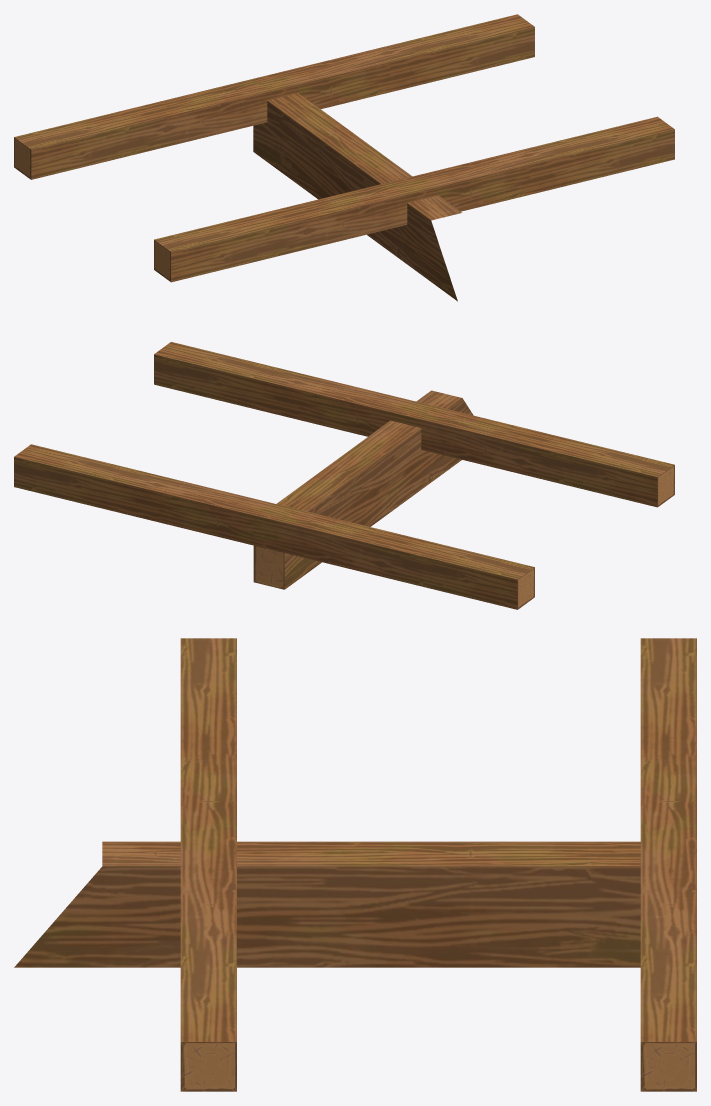
File: overhang-roofincline-unevenbricks.glb
3 renders of one model, top to bottom at view 1: azimuth 30°, elevation 25°; view 2: azimuth 150°, elevation 25°; view 3: azimuth 270°, elevation 25°, orthographic. The views are drawn at different scales.
Visible parts, largest first — view 1: Overhang_RoofIncline_UnevenBricks; view 2: Overhang_RoofIncline_UnevenBricks; view 3: Overhang_RoofIncline_UnevenBricks.
Boxes of the visible parts, x1=… form: Overhang_RoofIncline_UnevenBricks: x1=14, y1=14, x2=674, y2=301; Overhang_RoofIncline_UnevenBricks: x1=14, y1=342, x2=674, y2=609; Overhang_RoofIncline_UnevenBricks: x1=14, y1=638, x2=696, y2=1091.
Bounding box in the file's own units: 2 × 0.2659 × 1.43.
Materials: 2 (2 with a texture image).
